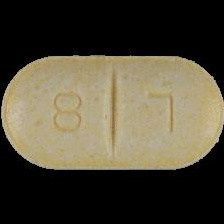68788-9293: (0, 0, 224, 224)
